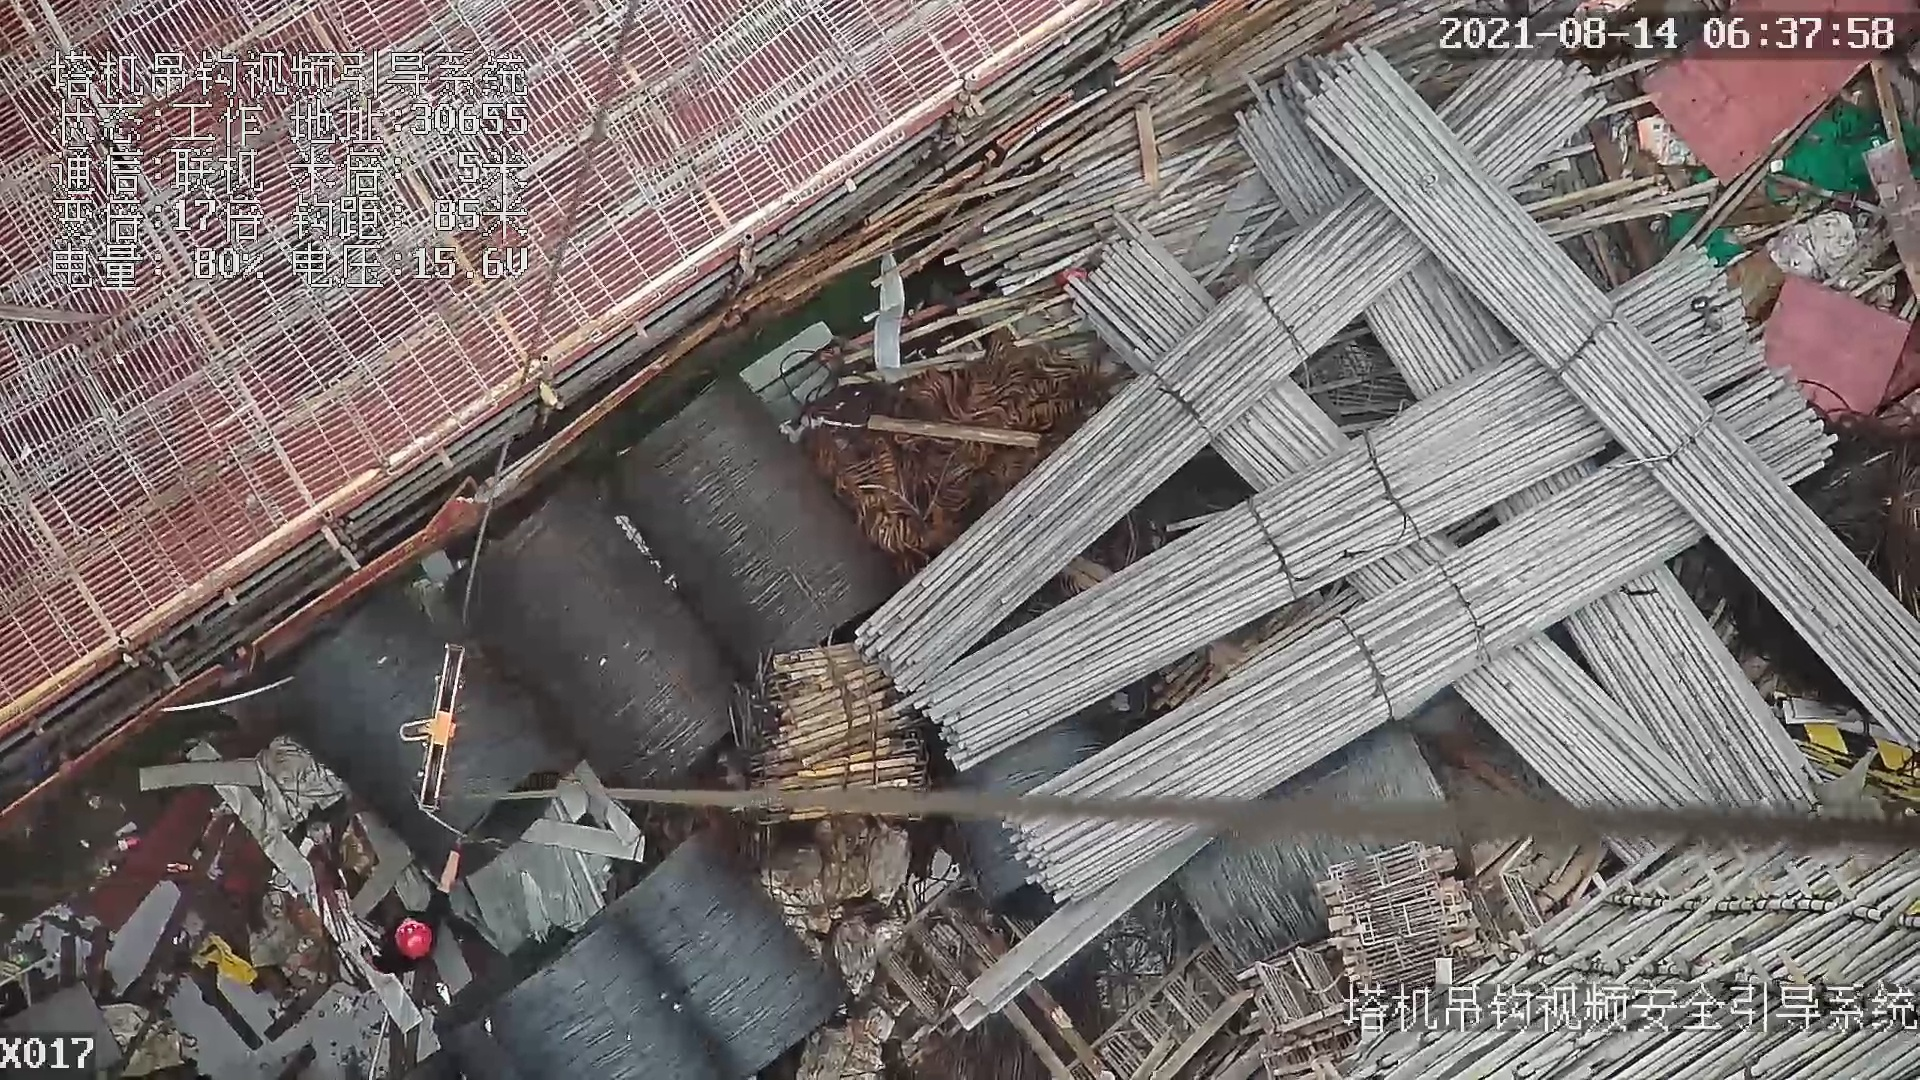helmet: (388, 913, 438, 964)
hook: (396, 639, 469, 812)
person: (360, 840, 458, 981)
scaffold: (919, 65, 1910, 821), (759, 631, 945, 822)
